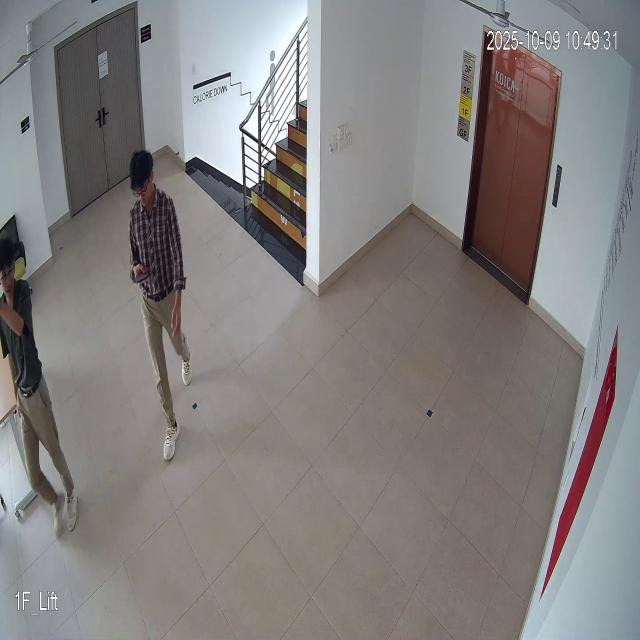face: (127, 148, 157, 213)
